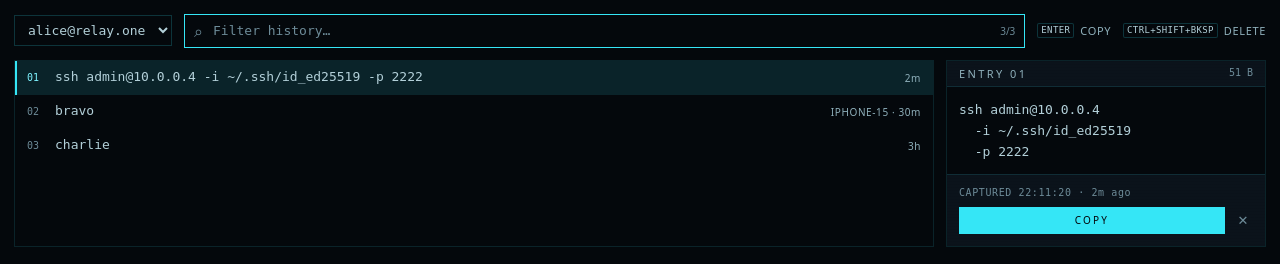
Test case: HistorySection — the reader › states when a reordered entry was used beside when it was captured
This screenshot has width=1280, height=264.
Click the list item with test id "entry-row" showing "02 bravo IPHONE-15 · 30m" at (75, 111), box [27,103,921,118]
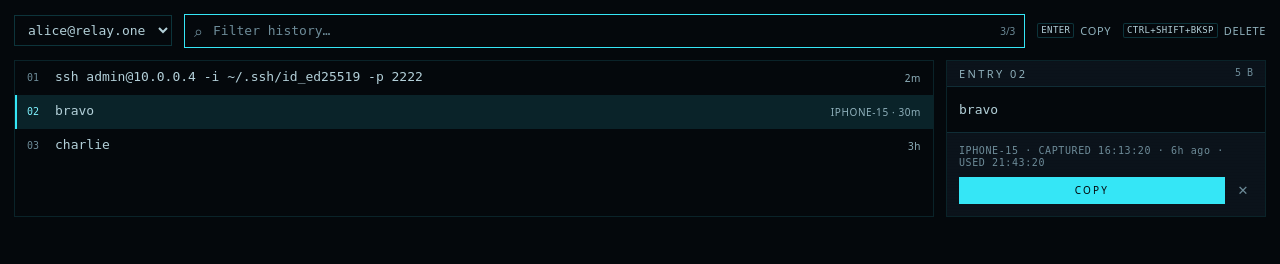
Expected: the list item with test id "entry-row" shows "30m", [898,104,921,118]
Expected: the text "IPHONE-15 · CAPTURED 16:13:20 · 6h ago · USED 21:43:20" is shown, [959,145,1253,169]
